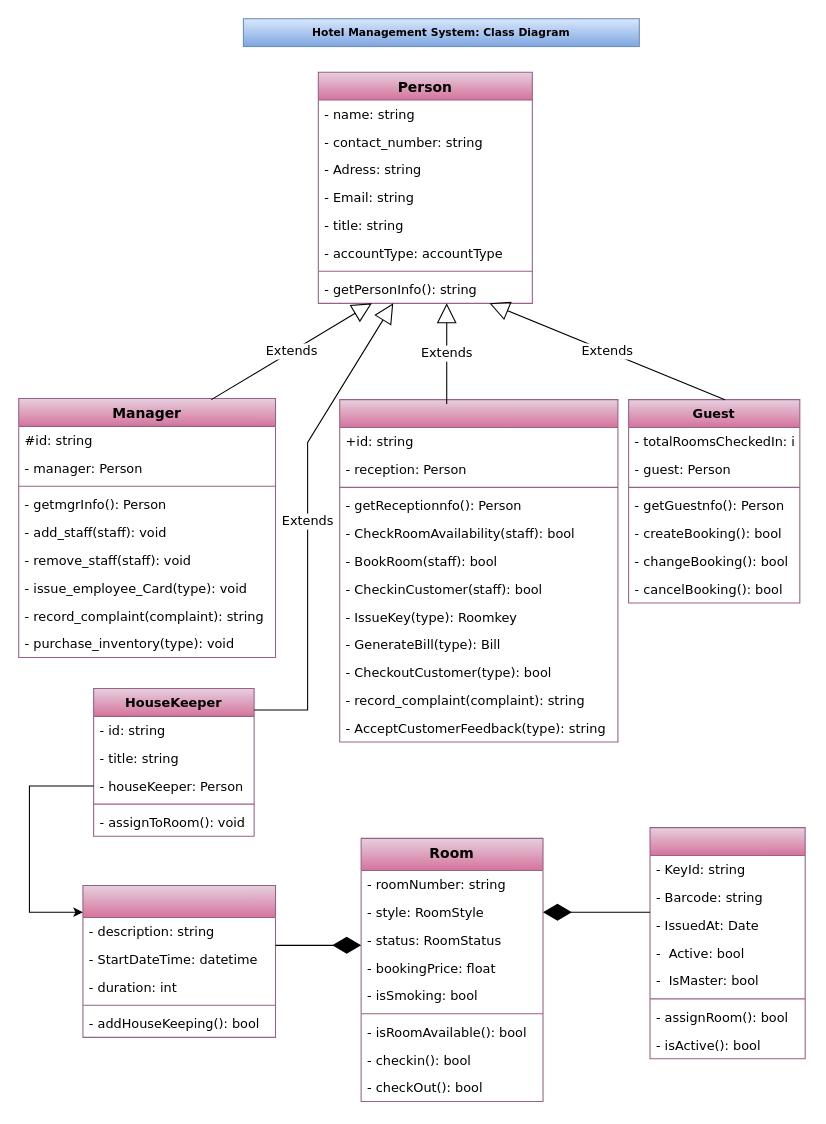
Image size: 826x1124. Some labels were removed from this diagram. Each missing label, with the box of its shape:
Receptionist: (339, 399, 618, 742)
RoomHouseKeeping: (82, 884, 276, 1037)
Roomkey: (649, 827, 805, 1059)
